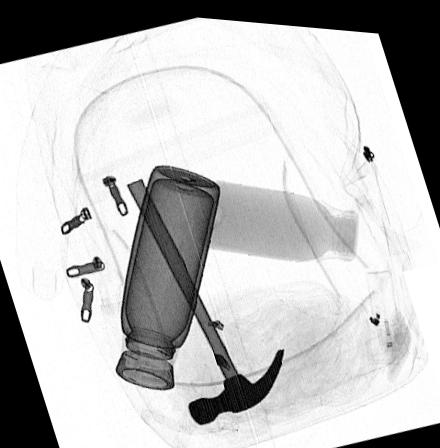Hammer: (125, 175, 285, 423)
